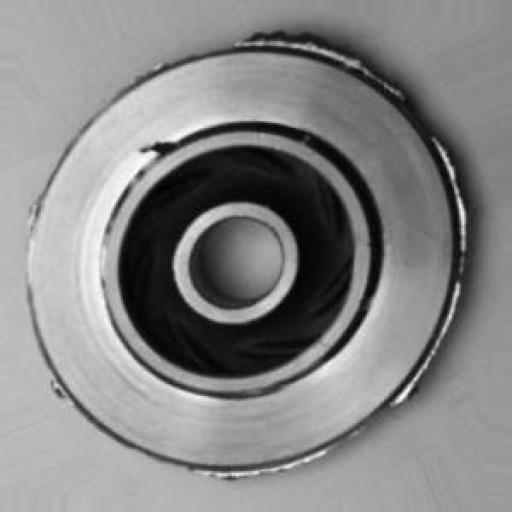defect: (32, 27, 490, 493)
